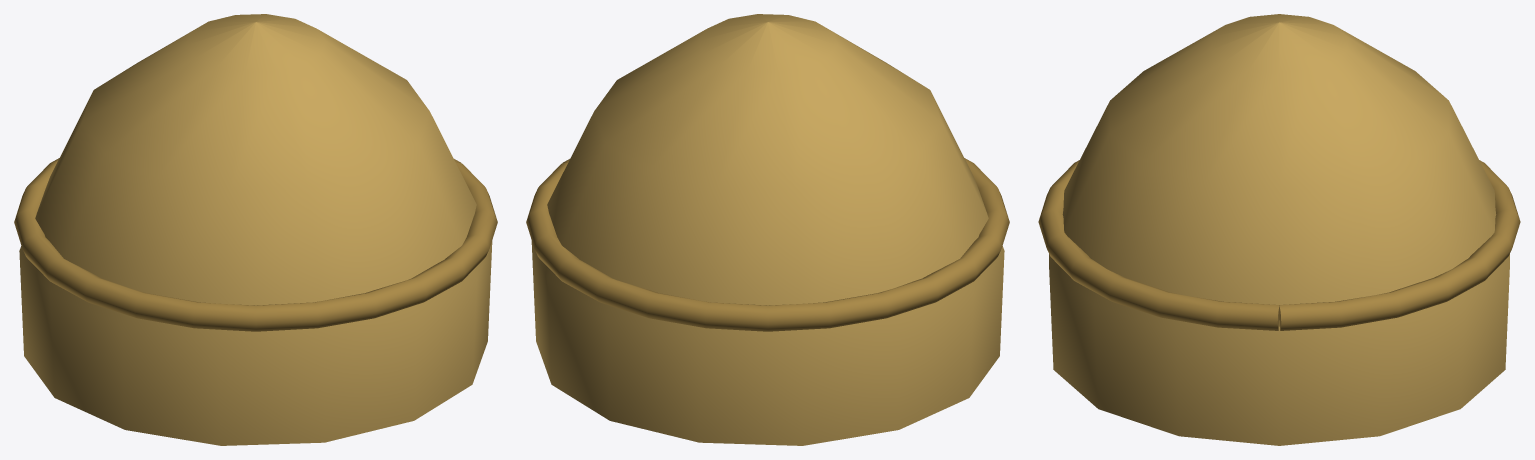
File: hay_rick.fbx
3 renders of one model, left to right at view 1: azimuth 30°, elevation 25°; view 2: azimuth 150°, elevation 25°; view 3: azimuth 270°, elevation 25°, orthographic.
Visible parts, largest first — view 1: hay_rick; view 2: hay_rick; view 3: hay_rick.
Boxes of the visible parts, left/top/right/bottom form: hay_rick: left=14, top=14, right=497, bottom=445; hay_rick: left=526, top=14, right=1009, bottom=445; hay_rick: left=1038, top=14, right=1520, bottom=445.
Size of the model in its own units: 0.1872 by 0.1395 by 0.1872.
